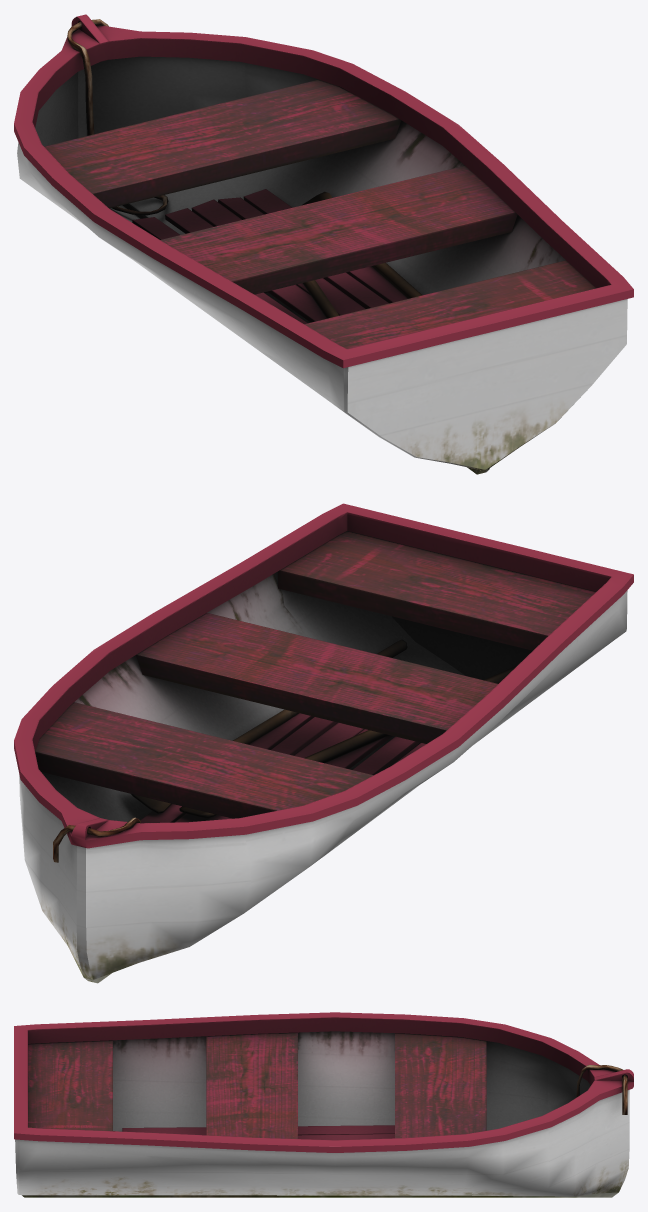
The model's file is fishing boat.fbx.
3 renders of one model, top to bottom at view 1: azimuth 30°, elevation 25°; view 2: azimuth 150°, elevation 25°; view 3: azimuth 270°, elevation 25°, orthographic. The views are drawn at different scales.
Parts seen in each view (by area): view 1: Box003; view 2: Box003; view 3: Box003.
Part boxes in pixels (box(x1,y1,x2,y2)): Box003: box(14, 14, 633, 474); Box003: box(14, 503, 633, 983); Box003: box(14, 1012, 633, 1197).
Size of the model in its own units: 239 by 103 by 466.
1 material, 1 textured.
